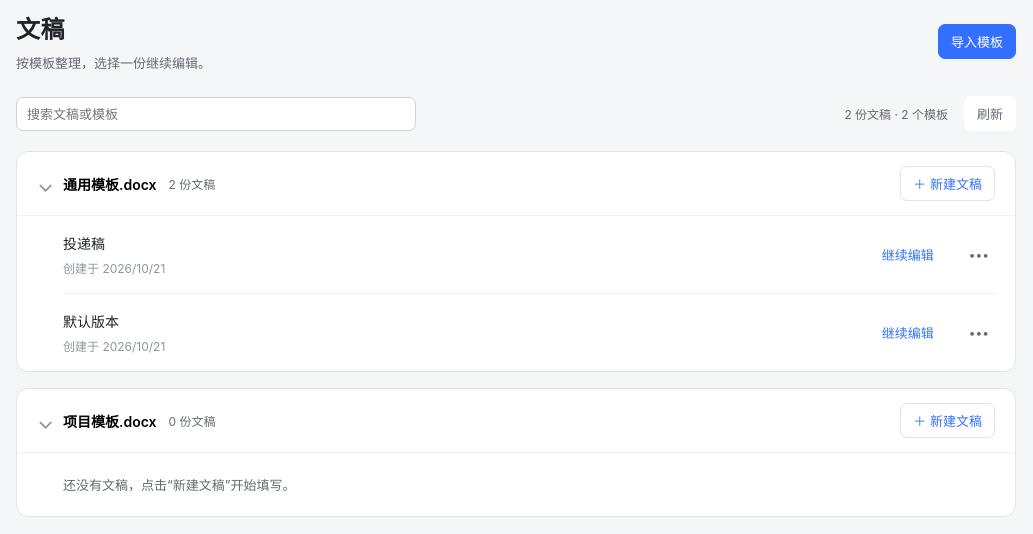
Test case: 文稿分组列表 › 按模板列出旧稿和空模板，组可折叠，搜索文稿或模板会展开命中组
Expected: the number of elements with class "template-group" is 2, x1=16 y1=151 x2=1016 y2=372; x1=16 y1=388 x2=1016 y2=517
Click the button with class "group-toggle" showing "⌄ 通用模板.docx 2 份文稿" at (110, 184), box x1=37 y1=166 x2=884 y2=200
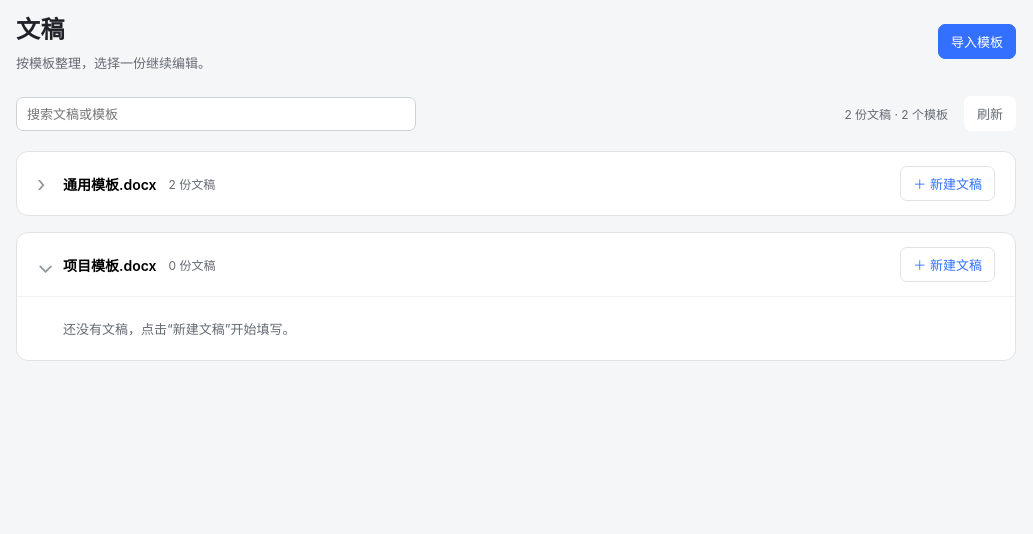
Now the text "投递稿 创建于 2026/10/21 继续编辑 ••• 默认版本 创建于 2026/10/21 继续编辑 •••" is gone
Type "投递" into the search field with placeholder "搜索文稿或模板" at (216, 114), box x1=16 y1=96 x2=416 y2=130
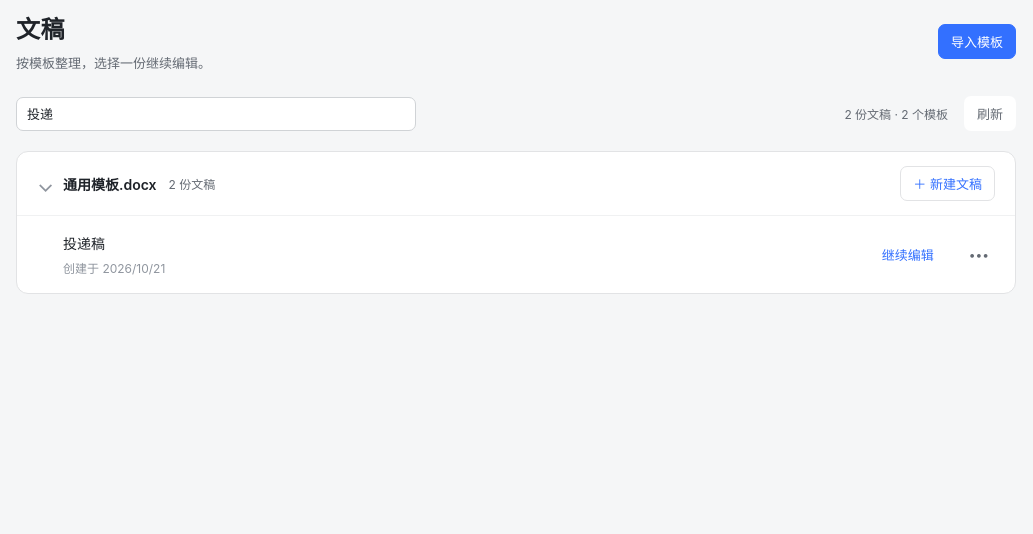
Expected: the element with class "group-documents" is shown, x1=17 y1=215 x2=1015 y2=293
Now the number of elements with class "template-group" is 1, box x1=16 y1=151 x2=1016 y2=294
Now the number of elements with class "document-row" is 1, box x1=63 y1=235 x2=989 y2=276
Replace the text in the search field named "搜索文稿或模板" with "项目模板" at (216, 114), box x1=16 y1=96 x2=416 y2=130
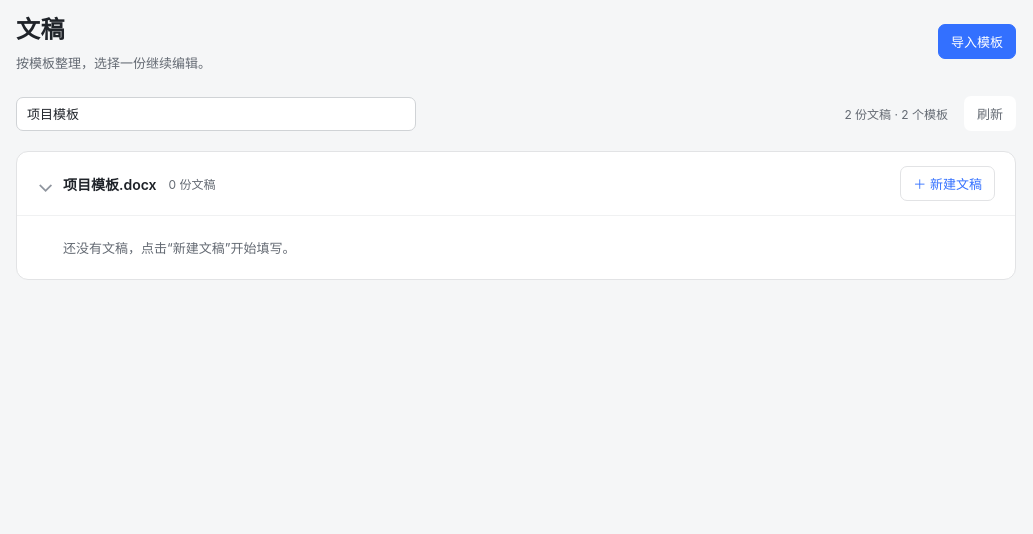
Now the number of elements with class "template-group" is 1, box x1=16 y1=151 x2=1016 y2=280
Now the text "还没有文稿" is shown, box x1=63 y1=240 x2=296 y2=256
Replace the text in the search field named "搜索文稿或模板" with "不存在的稿件" at (216, 114), box x1=16 y1=96 x2=416 y2=130
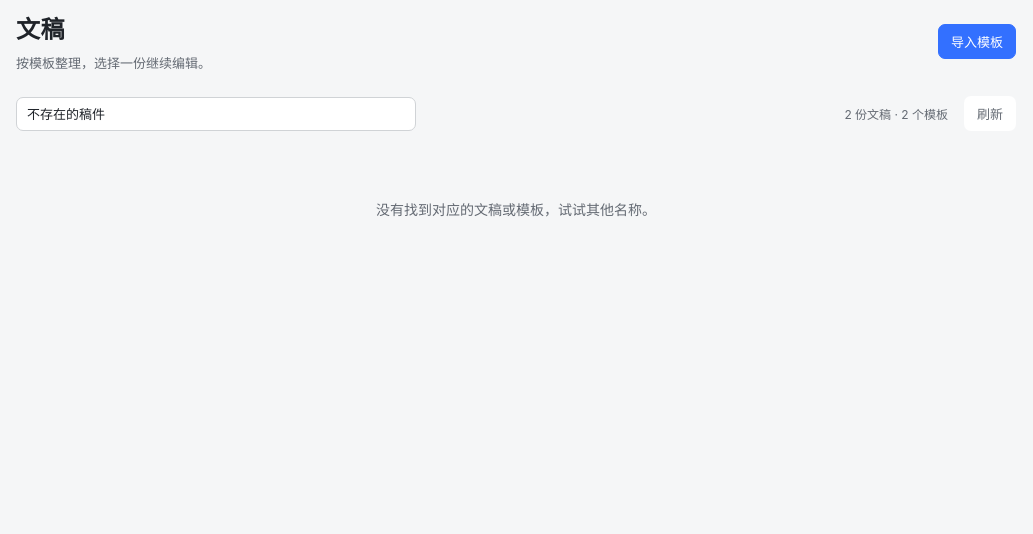
Now the text "没有找到" is shown, box x1=376 y1=201 x2=656 y2=218
